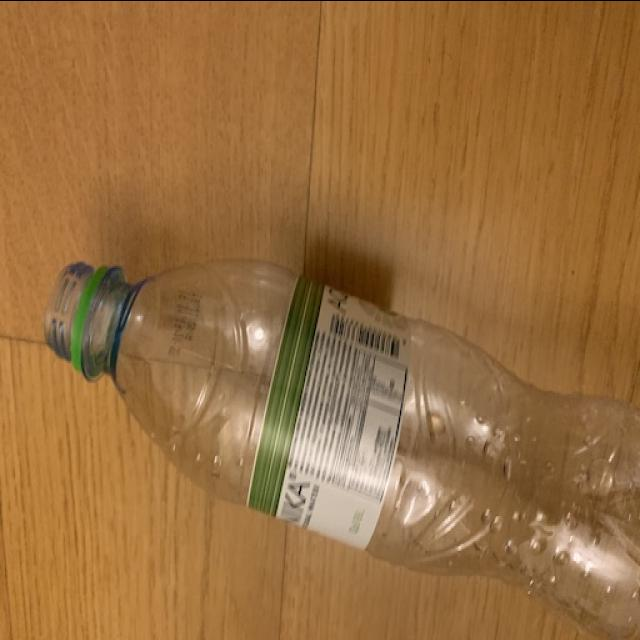PET: (24, 244, 640, 634)
